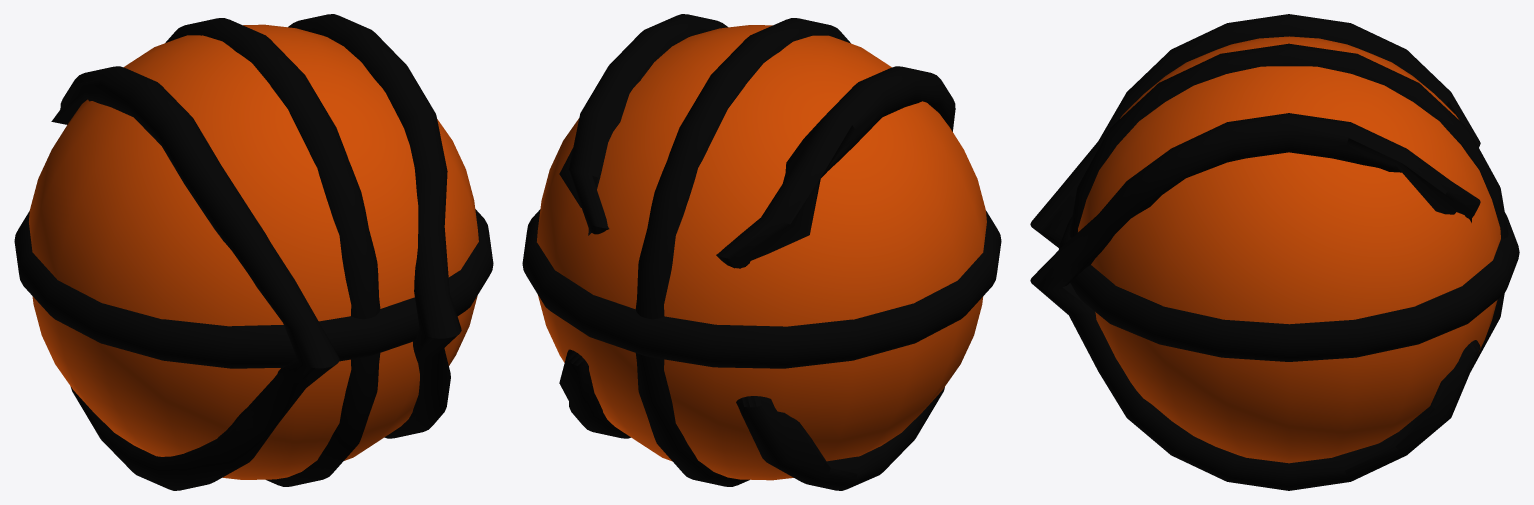
Rendered from basketball.fbx.
3 renders of one model, left to right at view 1: azimuth 30°, elevation 25°; view 2: azimuth 150°, elevation 25°; view 3: azimuth 270°, elevation 25°, orthographic. The views are drawn at different scales.
Parts seen in each view (by area): view 1: obj3; view 2: obj3; view 3: obj3.
Part boxes in pixels (x1,y1,x2,y2): obj3: (14, 14, 493, 490); obj3: (522, 14, 1001, 490); obj3: (1030, 14, 1519, 490).
Bounding box in the file's own units: 210 × 211 × 226.
